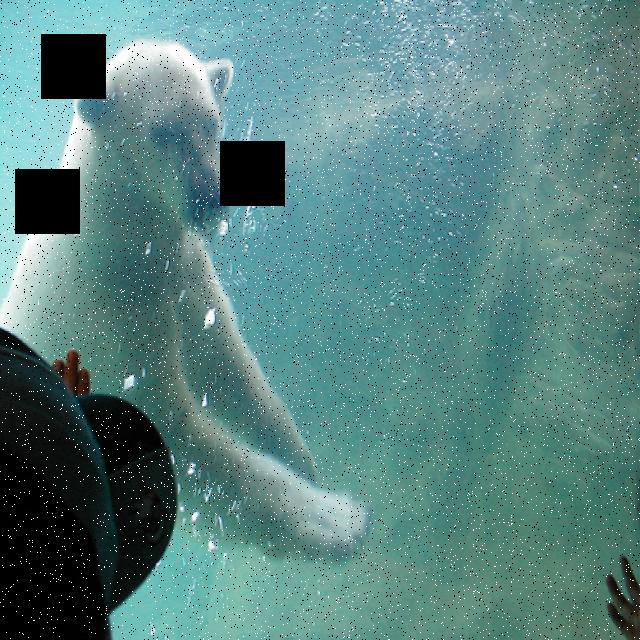Bear: (0, 23, 383, 580)
